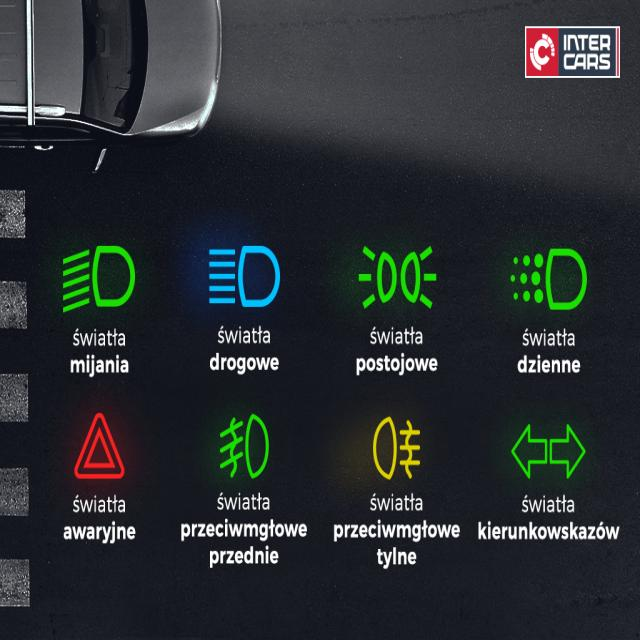kontrolka: (196, 230, 300, 334), (352, 228, 449, 320), (55, 230, 145, 327), (211, 396, 278, 494), (361, 402, 432, 493)
